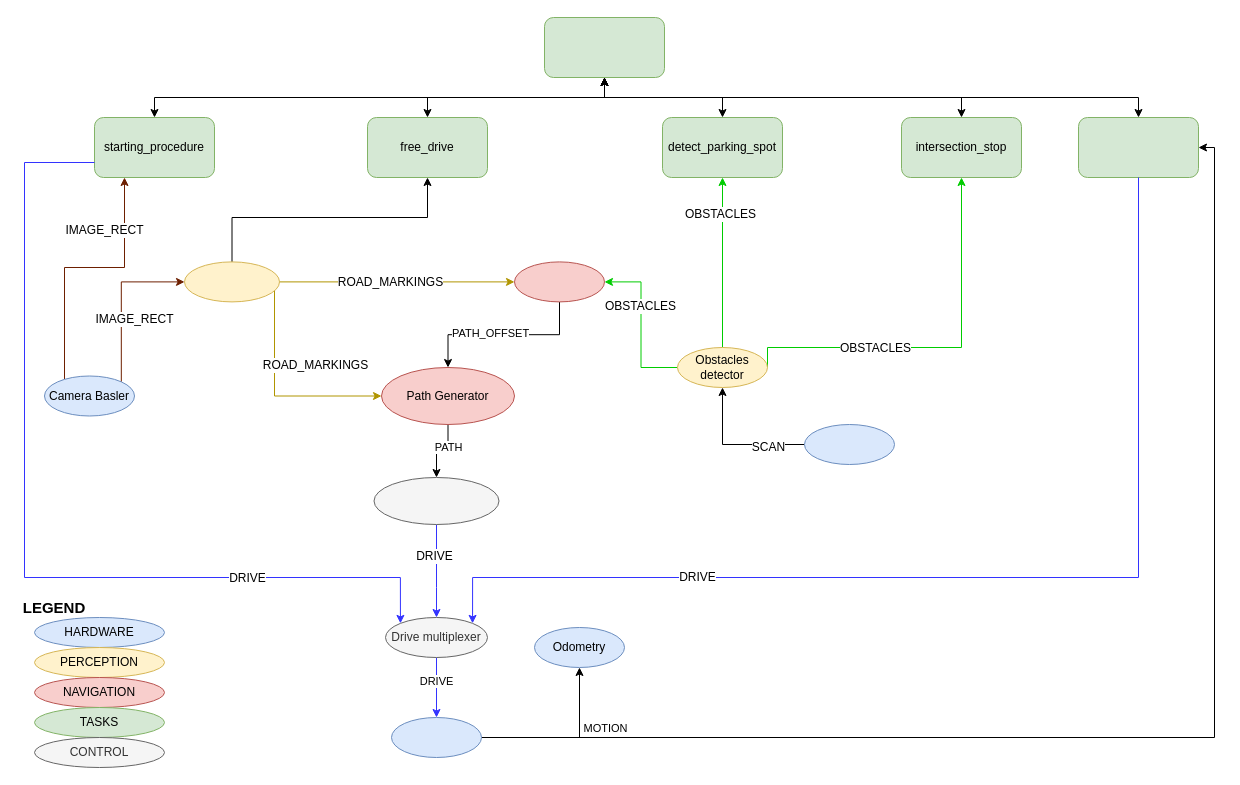
Image size: 1240x785. Some labels were removed from this diagram. Each missing label, with the centre of its shape:
Lane Detector: point (232, 281)
Lane Pilot: point (559, 281)
LIDAR: point (849, 444)
park: point (1138, 147)
PID carrot follower: point (436, 500)
Scheduler: point (604, 47)
STM Bridge: point (436, 737)
